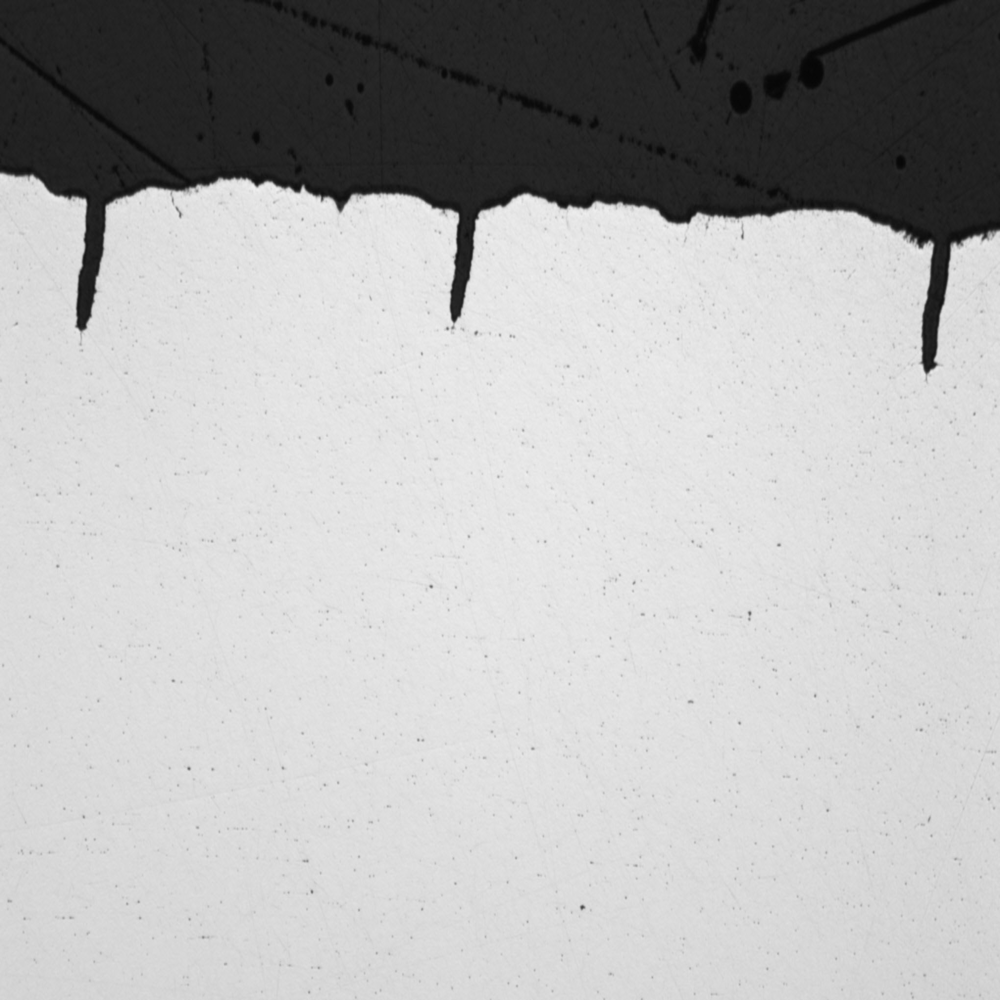crack: (46, 181, 130, 356), (425, 196, 504, 340), (905, 220, 966, 385)
